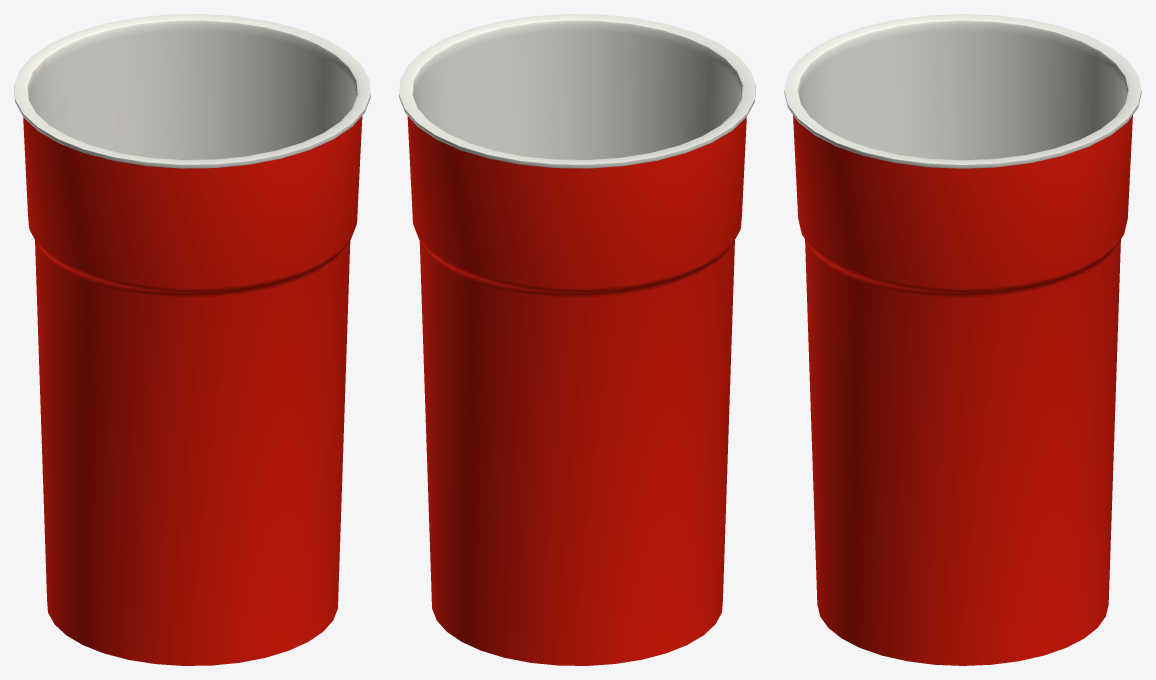
The model's file is Cup.fbx.
The picture shows the model from 3 angles, left to right: view 1: azimuth 30°, elevation 25°; view 2: azimuth 150°, elevation 25°; view 3: azimuth 270°, elevation 25°; orthographic projection.
Visible parts, largest first — view 1: Cylinder.001; view 2: Cylinder.001; view 3: Cylinder.001.
Part boxes in pixels (box(x1,y1,x2,y2)): Cylinder.001: box(14, 14, 370, 665); Cylinder.001: box(399, 14, 755, 665); Cylinder.001: box(784, 14, 1141, 665).
Size of the model in its own units: 8.64 by 13.73 by 8.64.
